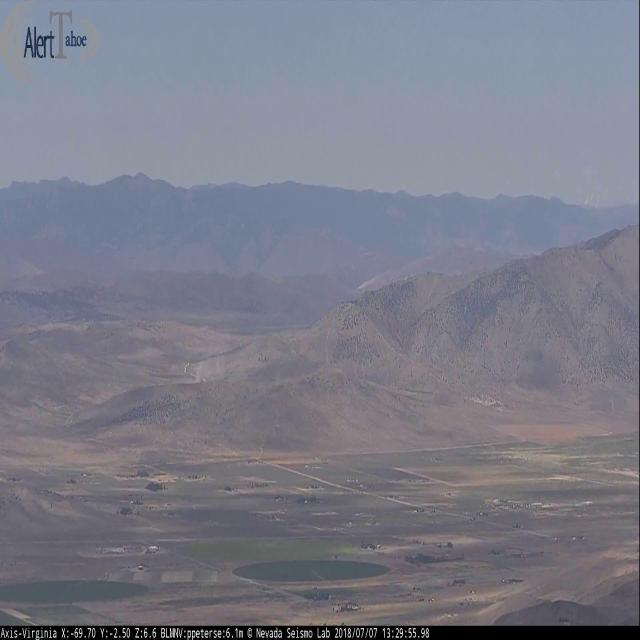smoke: (192, 345, 234, 385)
